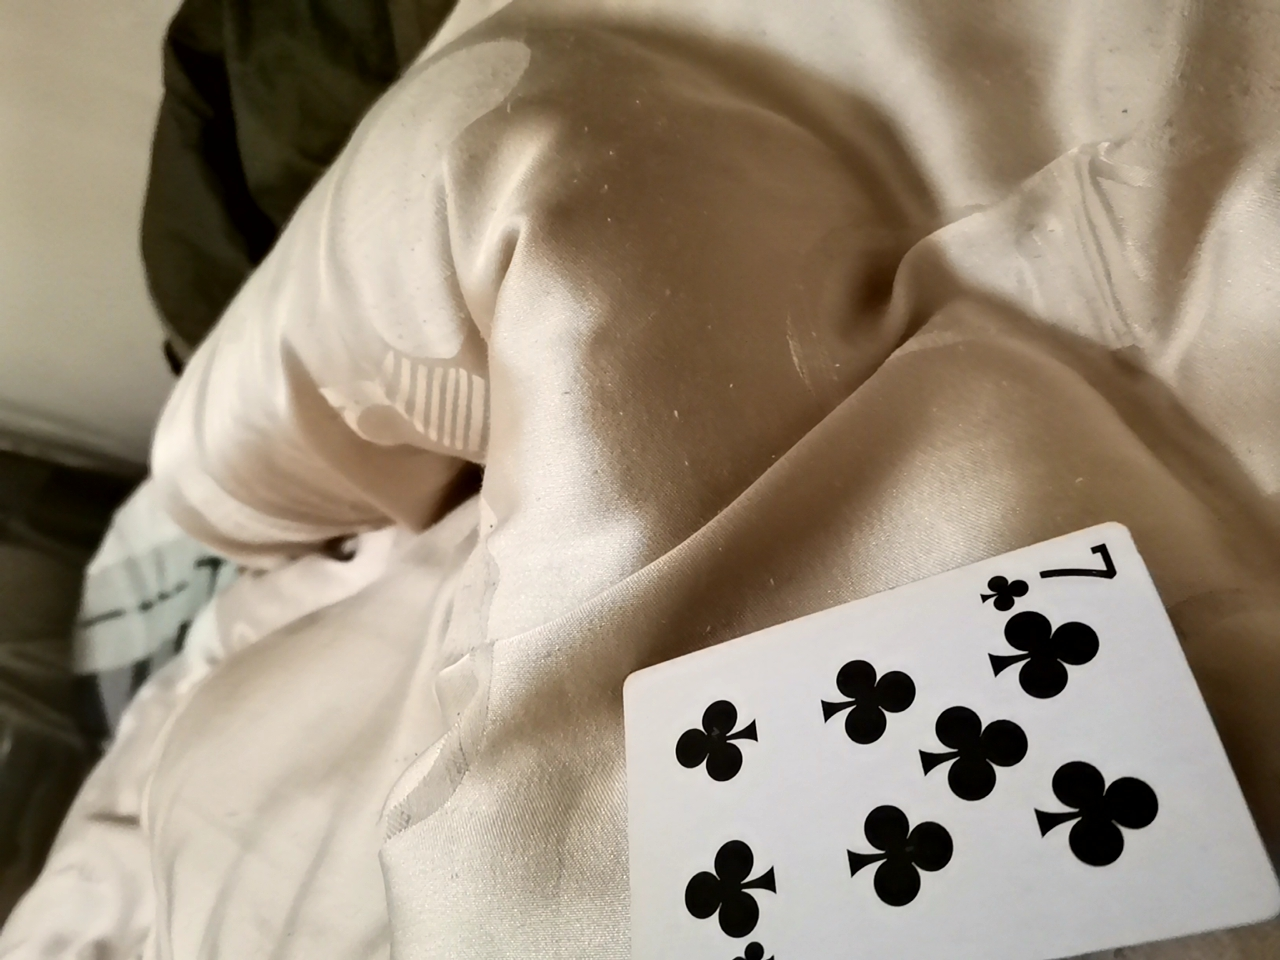mh 7: (586, 517, 1266, 960)
